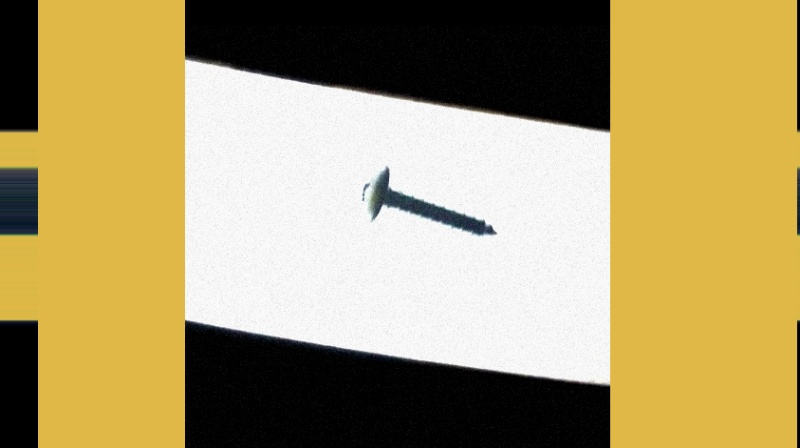S003: (353, 161, 499, 239)
